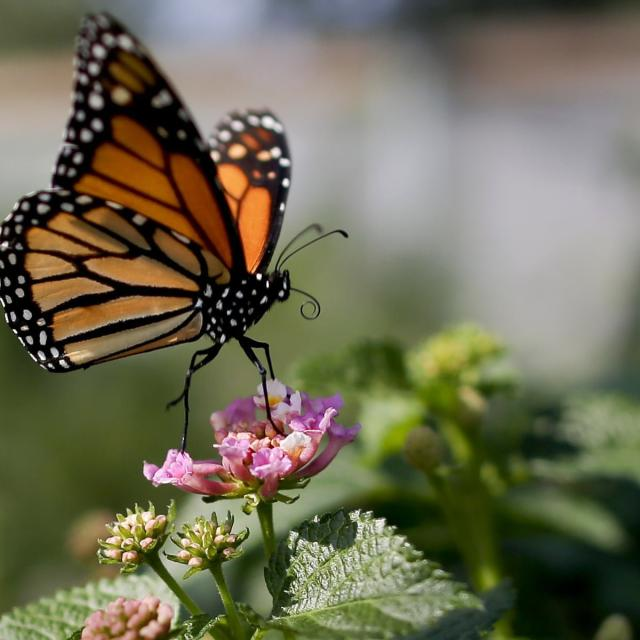butterfly: (41, 82, 336, 362)
